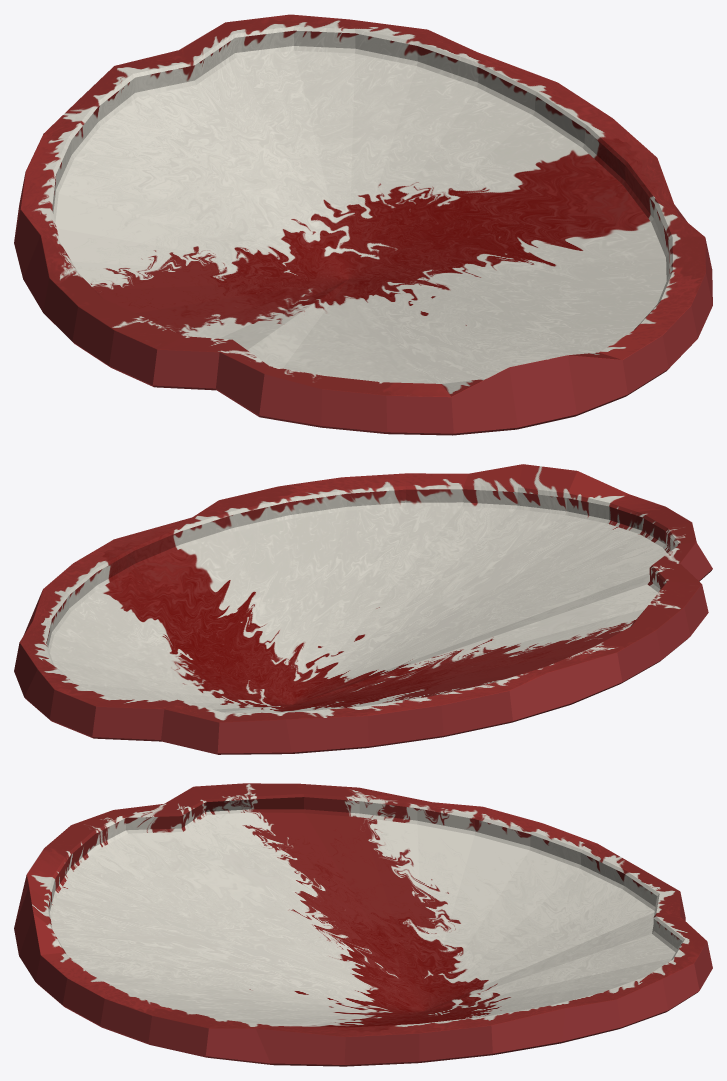
The picture shows the model from 3 angles, top to bottom: view 1: azimuth 30°, elevation 25°; view 2: azimuth 150°, elevation 25°; view 3: azimuth 270°, elevation 25°; orthographic projection. The views are drawn at different scales.
Visible parts, largest first — view 1: Cylinder.090; view 2: Cylinder.090; view 3: Cylinder.090.
Part boxes in pixels (x1,y1,x2,y2): Cylinder.090: [14, 14, 712, 435]; Cylinder.090: [14, 464, 712, 754]; Cylinder.090: [14, 783, 712, 1066].
Size of the model in its own units: 193 by 39.38 by 236.
3 materials, 1 textured.
